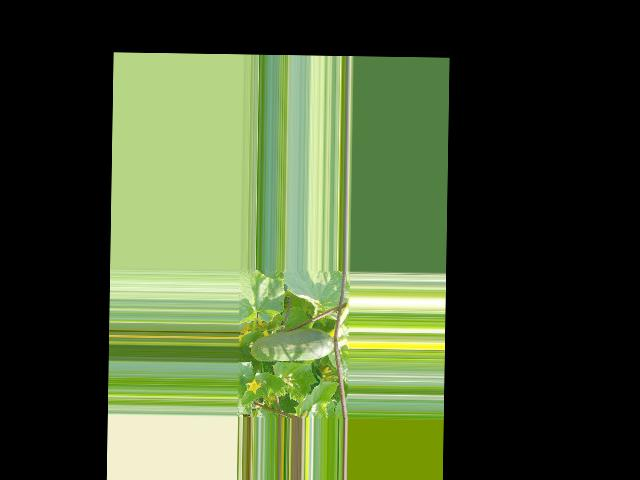cucumber: (250, 326, 333, 362)
